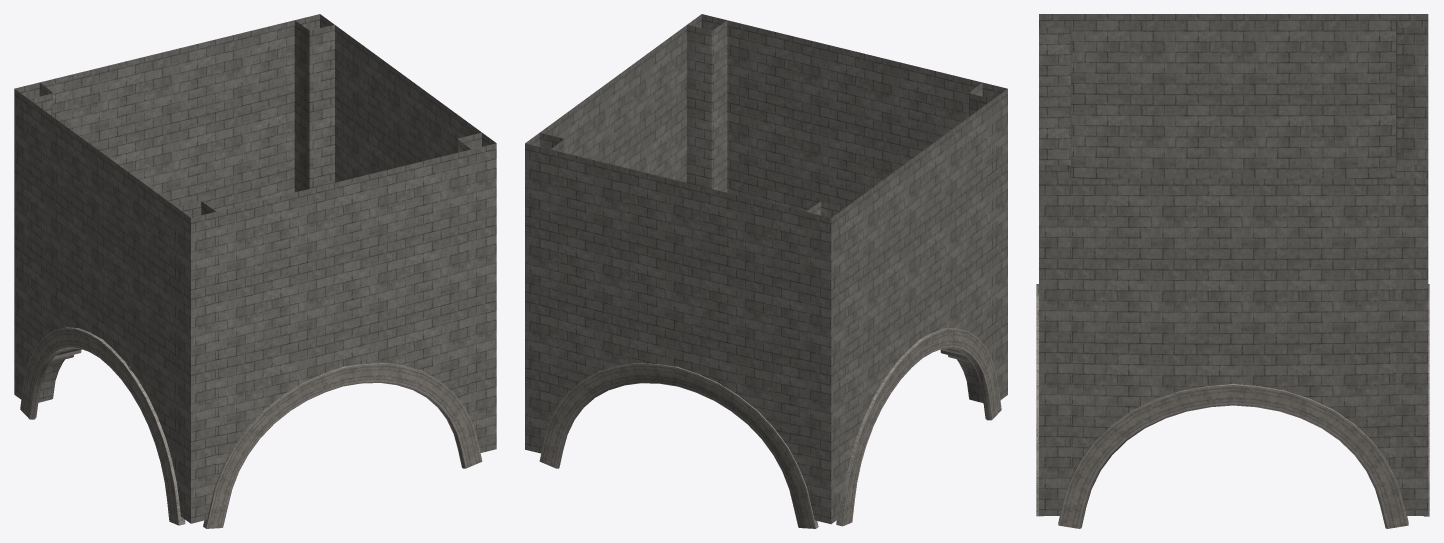
The model's file is SM_ceiling_A_01.fbx.
3 views of the same model, side by side, from view 1: azimuth 30°, elevation 25°; view 2: azimuth 150°, elevation 25°; view 3: azimuth 270°, elevation 25° (orthographic). The views are drawn at different scales.
Visible parts, largest first — view 1: SM_ceiling_A_01_LOD0; view 2: SM_ceiling_A_01_LOD0; view 3: SM_ceiling_A_01_LOD0.
Part boxes in pixels (left/top/right/bottom): SM_ceiling_A_01_LOD0: left=14, top=14, right=496, bottom=528; SM_ceiling_A_01_LOD0: left=525, top=14, right=1007, bottom=528; SM_ceiling_A_01_LOD0: left=1036, top=14, right=1429, bottom=528.
Bounding box in the file's own units: 1015 × 1010 × 990.
